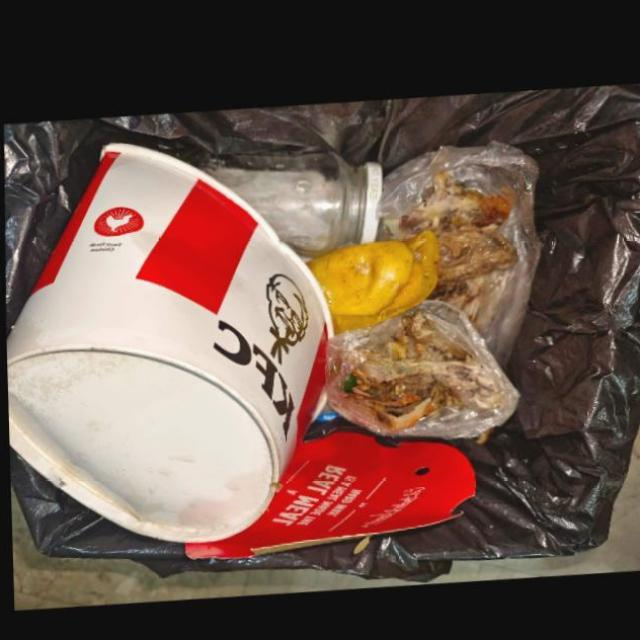carton: (5, 130, 326, 533)
chai_thuy_tinh: (211, 156, 382, 254)
thuc_an_thua: (376, 166, 517, 323), (340, 308, 480, 426)
tui_ni_long: (372, 136, 541, 367), (324, 296, 518, 432)
vo_hop_sua: (173, 419, 475, 550)
vo_trai_cay: (307, 226, 439, 326)
